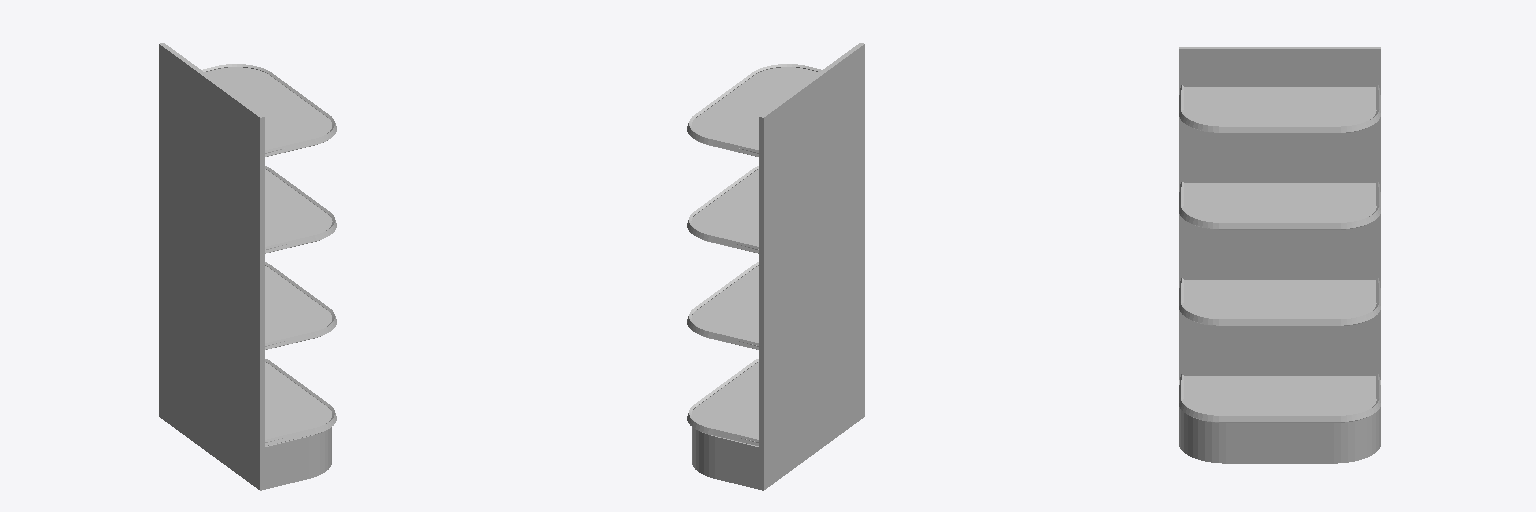
File: Shelf_RoundCap_4.obj
3 views of the same model, side by side, from view 1: azimuth 30°, elevation 25°; view 2: azimuth 150°, elevation 25°; view 3: azimuth 270°, elevation 25° (orthographic).
Visible parts, largest first — view 1: Shelf_RoundCap_4_Cube.033; view 2: Shelf_RoundCap_4_Cube.033; view 3: Shelf_RoundCap_4_Cube.033.
Boxes of the visible parts, box(x1,y1,x2,y2) form: Shelf_RoundCap_4_Cube.033: box(159, 43, 336, 490); Shelf_RoundCap_4_Cube.033: box(687, 43, 864, 490); Shelf_RoundCap_4_Cube.033: box(1179, 47, 1380, 463).
Size of the model in its own units: 1.04 by 4 by 1.97.